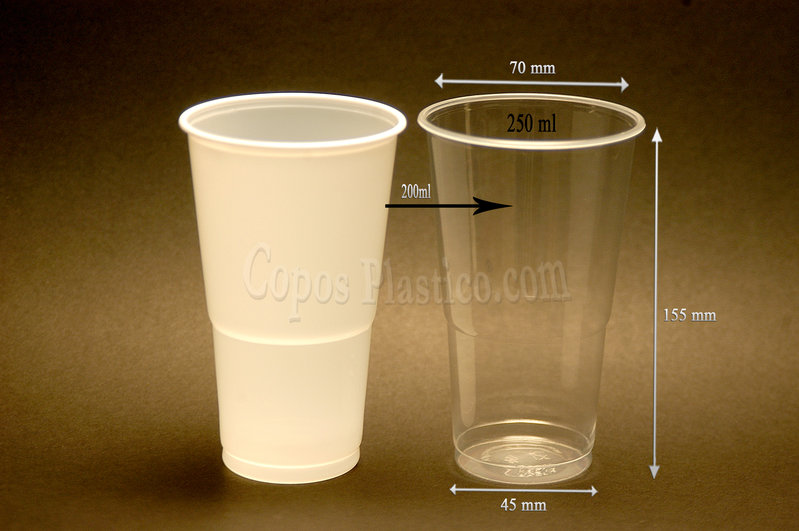plastic_glass: (393, 15, 728, 526), (110, 40, 420, 502)
